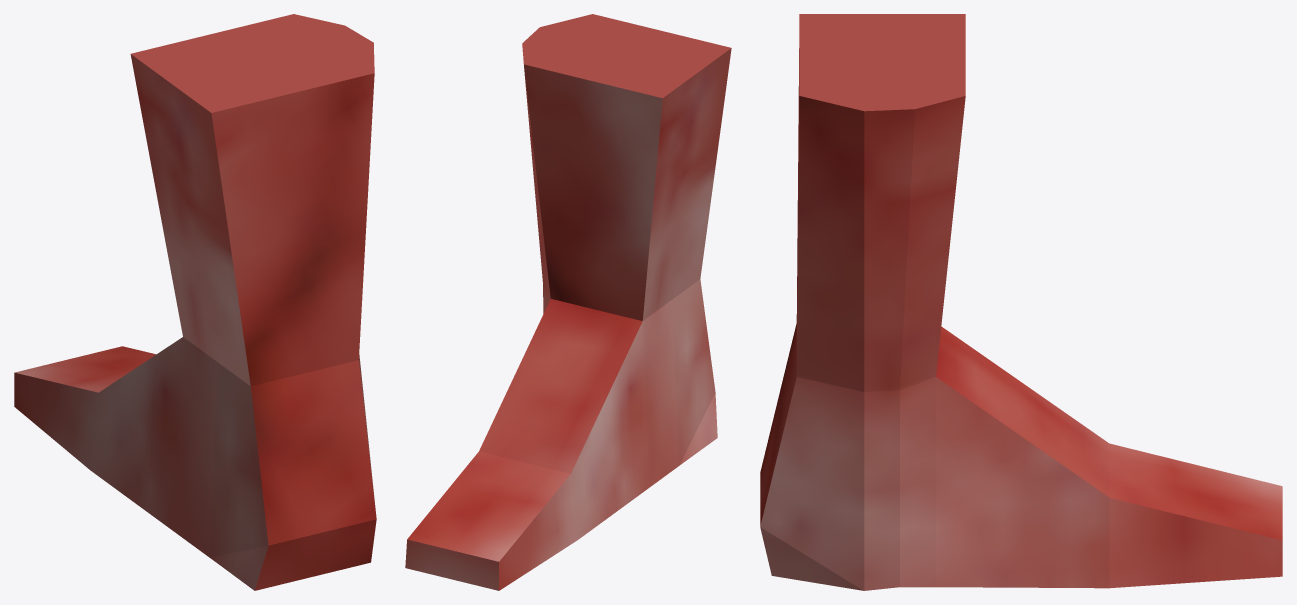
The model's file is GoatMan_Gib_Foot.fbx.
3 views of the same model, side by side, from view 1: azimuth 30°, elevation 25°; view 2: azimuth 150°, elevation 25°; view 3: azimuth 270°, elevation 25° (orthographic). The views are drawn at different scales.
Parts seen in each view (by area): view 1: Body; view 2: Body; view 3: Body.
Part boxes in pixels (x1,y1,x2,y2): Body: (14, 14, 376, 590); Body: (405, 14, 731, 590); Body: (760, 14, 1282, 590).
Bounding box in the file's own units: 20.16 × 47.24 × 45.79.
